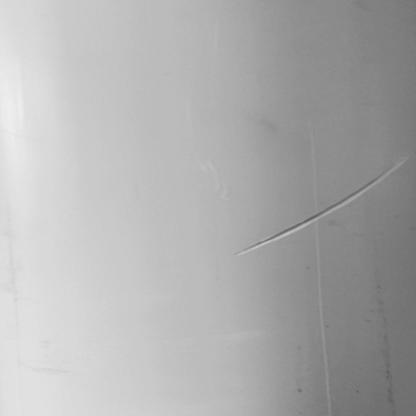sunshang: (237, 156, 405, 257)
